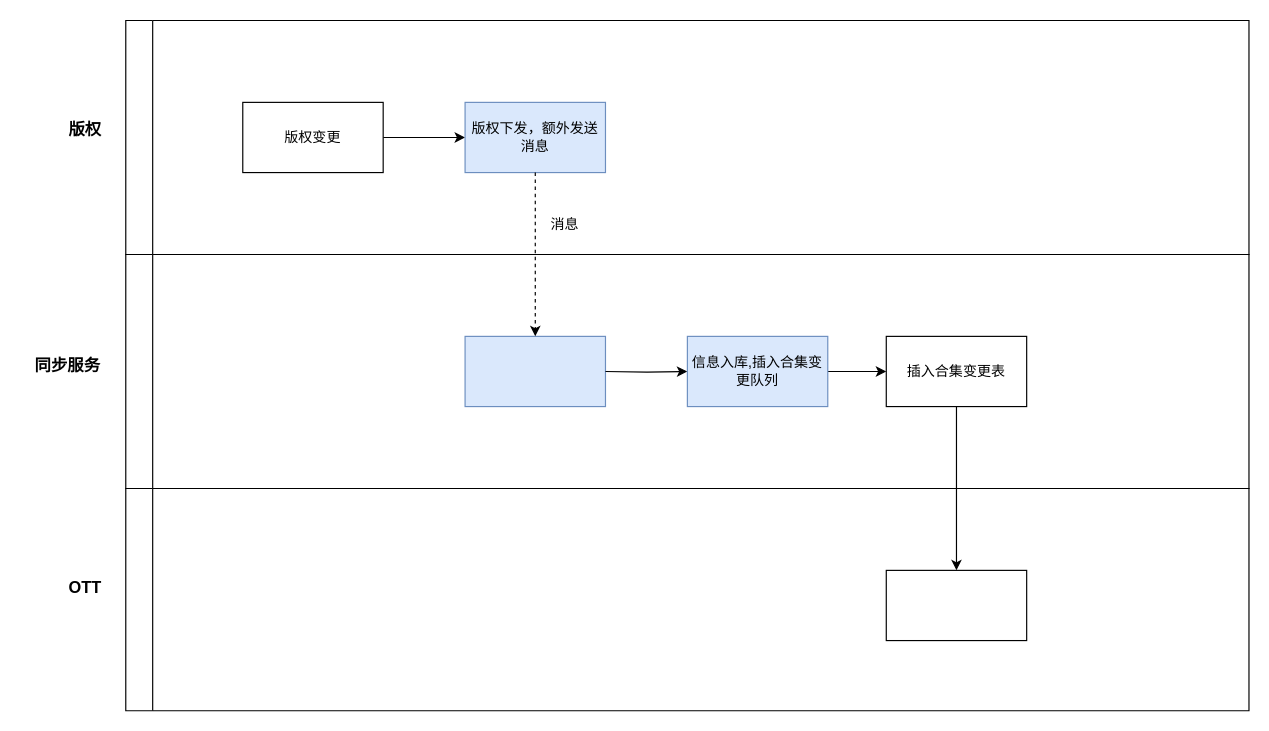
The diagram is 1269 pixels wide and 731 high, and some of its shapes have lost their labels. Each missing label, with the centre of its shape:
接收消息: the point at 534,371
读取变更表，拉取合集版权CP信息: the point at 956,605
